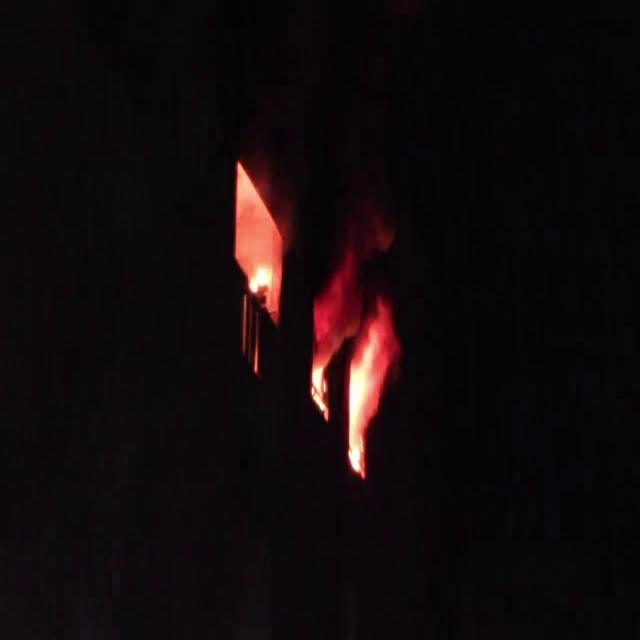Fire: (310, 277, 384, 475)
